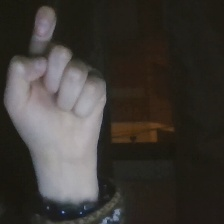X: (1, 1, 115, 168)
